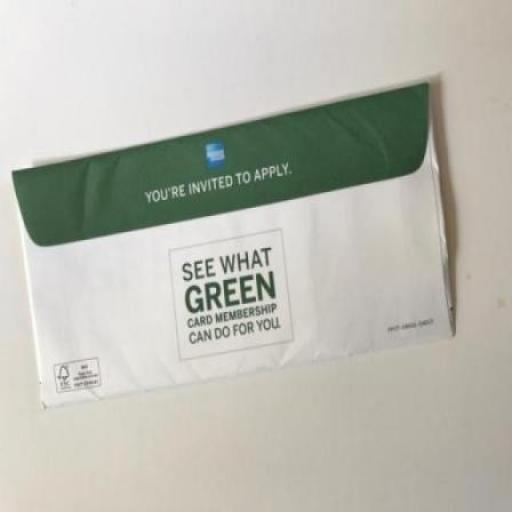paper: (0, 81, 478, 386)
